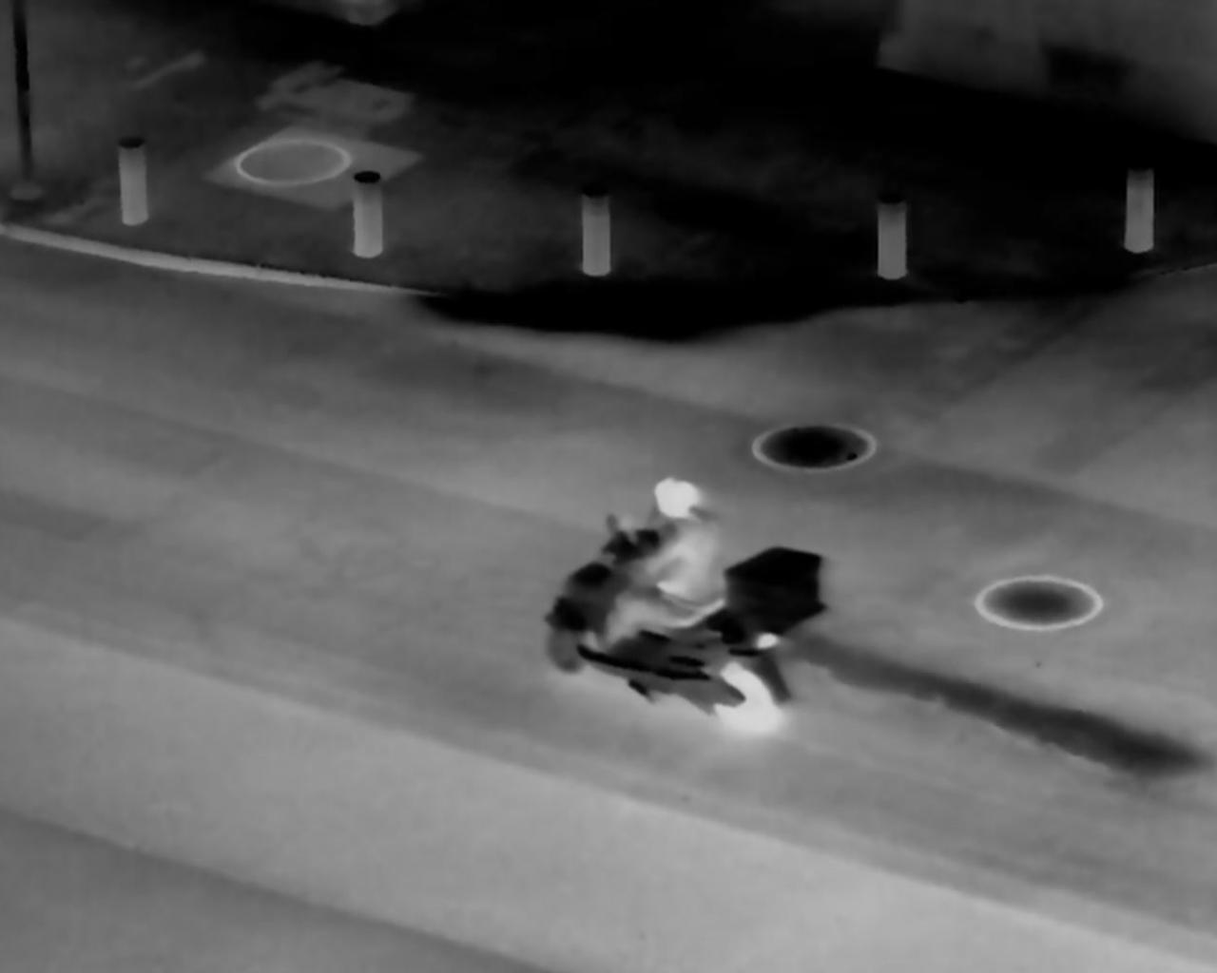person: (604, 469, 728, 677)
